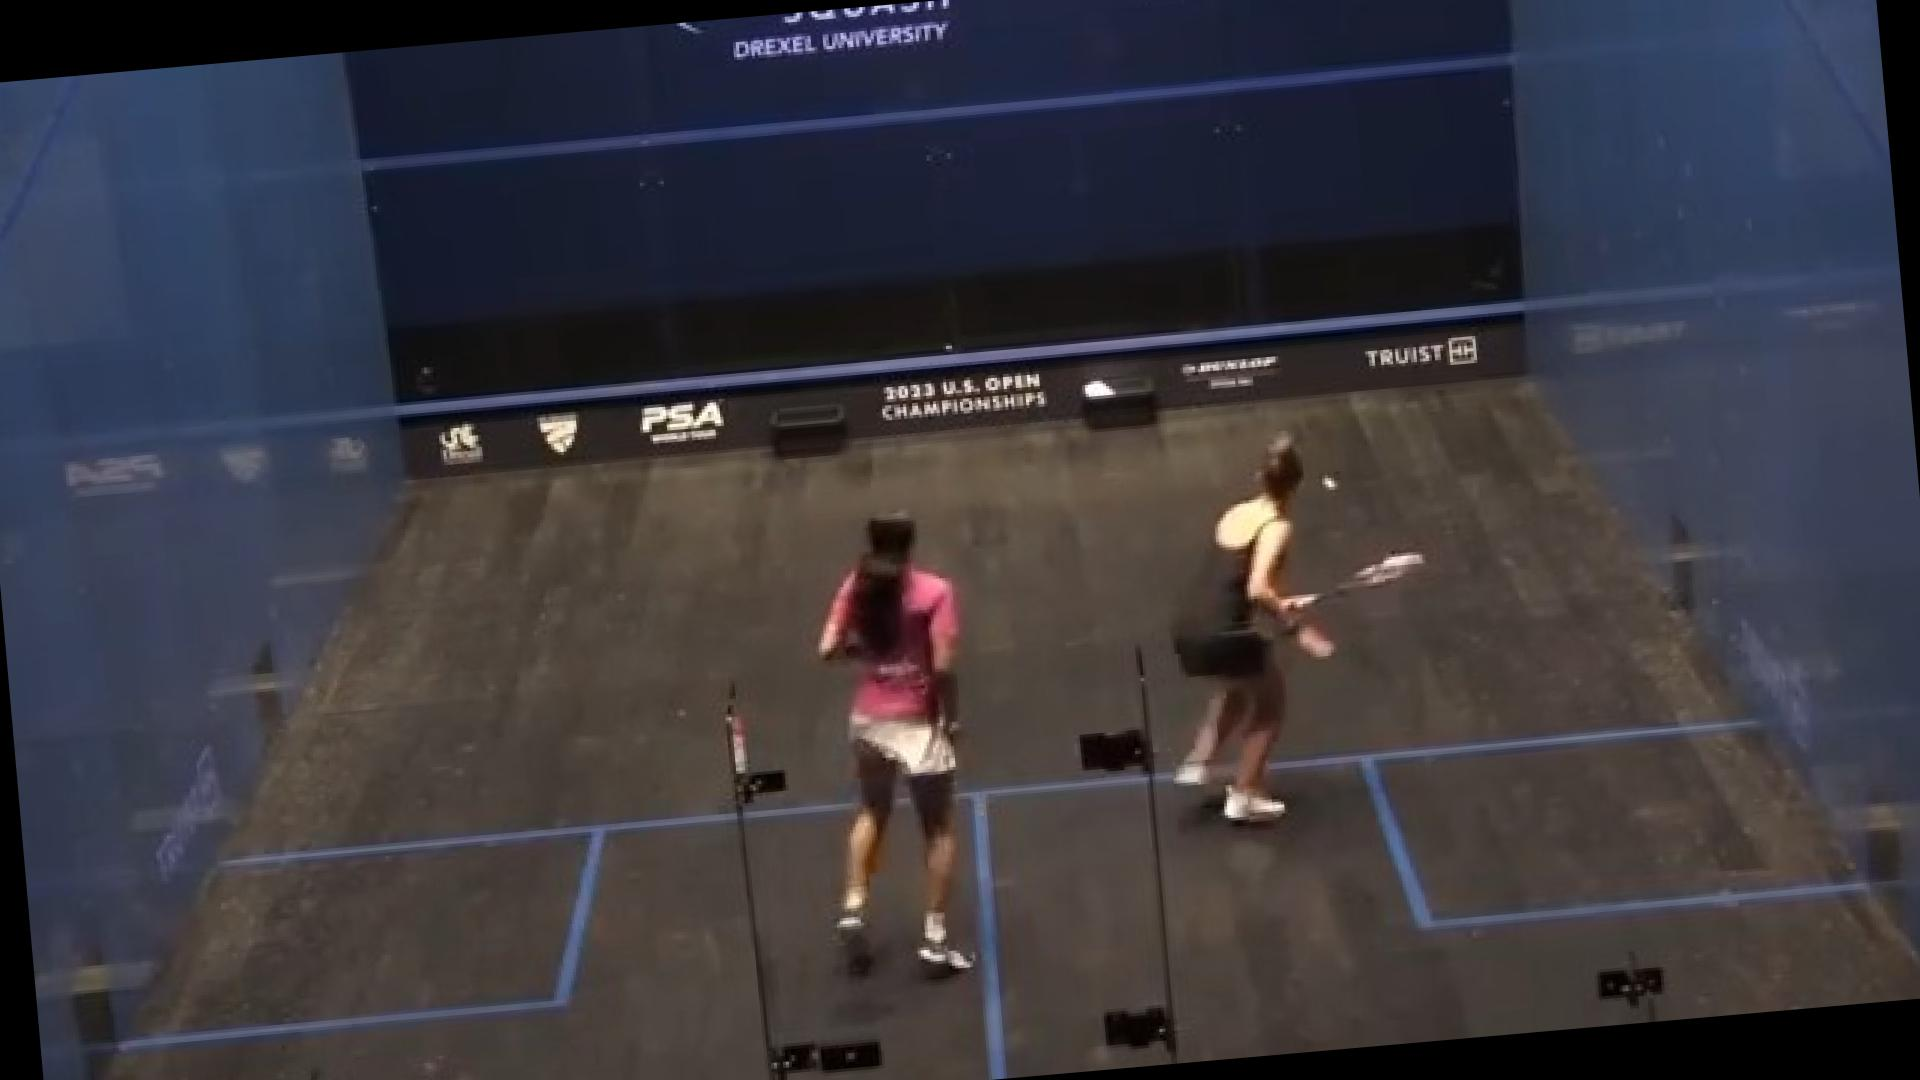Squash-Ball: (1312, 465, 1352, 506)
